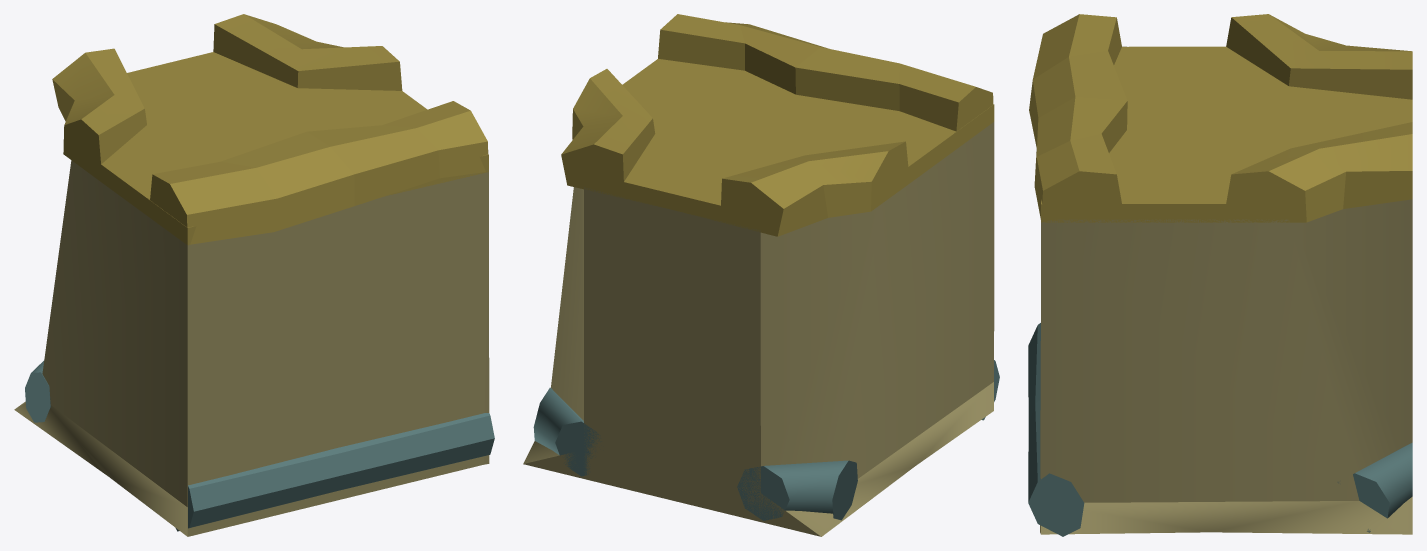
Rendered from Int_20_Cross_Semi_Full.fbx.
3 renders of one model, left to right at view 1: azimuth 30°, elevation 25°; view 2: azimuth 150°, elevation 25°; view 3: azimuth 270°, elevation 25°, orthographic. The views are drawn at different scales.
Visible parts, largest first — view 1: Int_20_Cross_Semi_Full; view 2: Int_20_Cross_Semi_Full; view 3: Int_20_Cross_Semi_Full.
Boxes of the visible parts, x1,y1,x2,y2 form: Int_20_Cross_Semi_Full: (14, 14, 494, 536); Int_20_Cross_Semi_Full: (523, 14, 999, 536); Int_20_Cross_Semi_Full: (1028, 14, 1412, 536).
Size of the model in its own units: 1 by 1.09 by 1.03.
